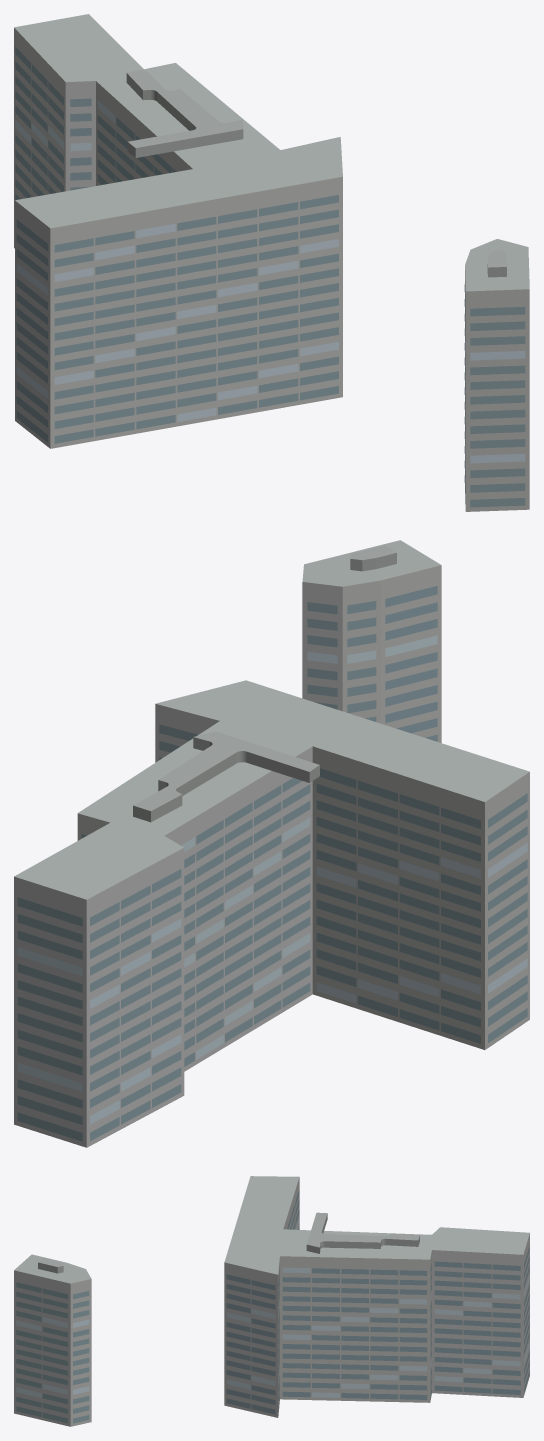
File: apt-a13080702.glb
3 views of the same model, one above another, from view 1: azimuth 30°, elevation 25°; view 2: azimuth 150°, elevation 25°; view 3: azimuth 270°, elevation 25° (orthographic). The views are drawn at different scales.
Parts seen in each view (by area): view 1: apt-a13080702; view 2: apt-a13080702; view 3: apt-a13080702.
Boxes of the visible parts, left/top/right/bottom form: apt-a13080702: left=14, top=14, right=529, bottom=511; apt-a13080702: left=14, top=540, right=529, bottom=1147; apt-a13080702: left=14, top=1176, right=529, bottom=1426.
Bounding box in the file's own units: 73.73 × 47.81 × 149.
